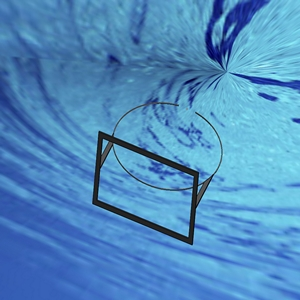circle: (91, 99, 222, 245)
